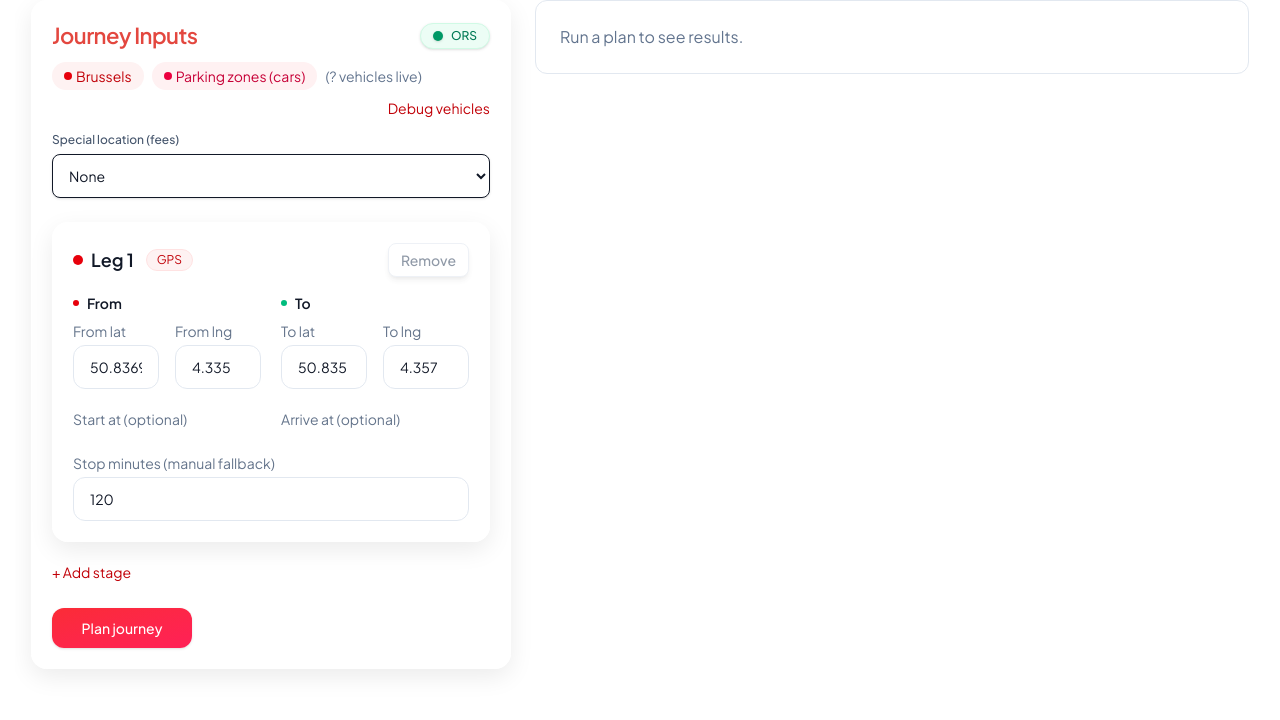
it: PlannerForm › runs a plan and shows a result
Click the button
Step 1. Click the button "Plan journey" → {"x": 122, "y": 628}, box [52,608,192,648]
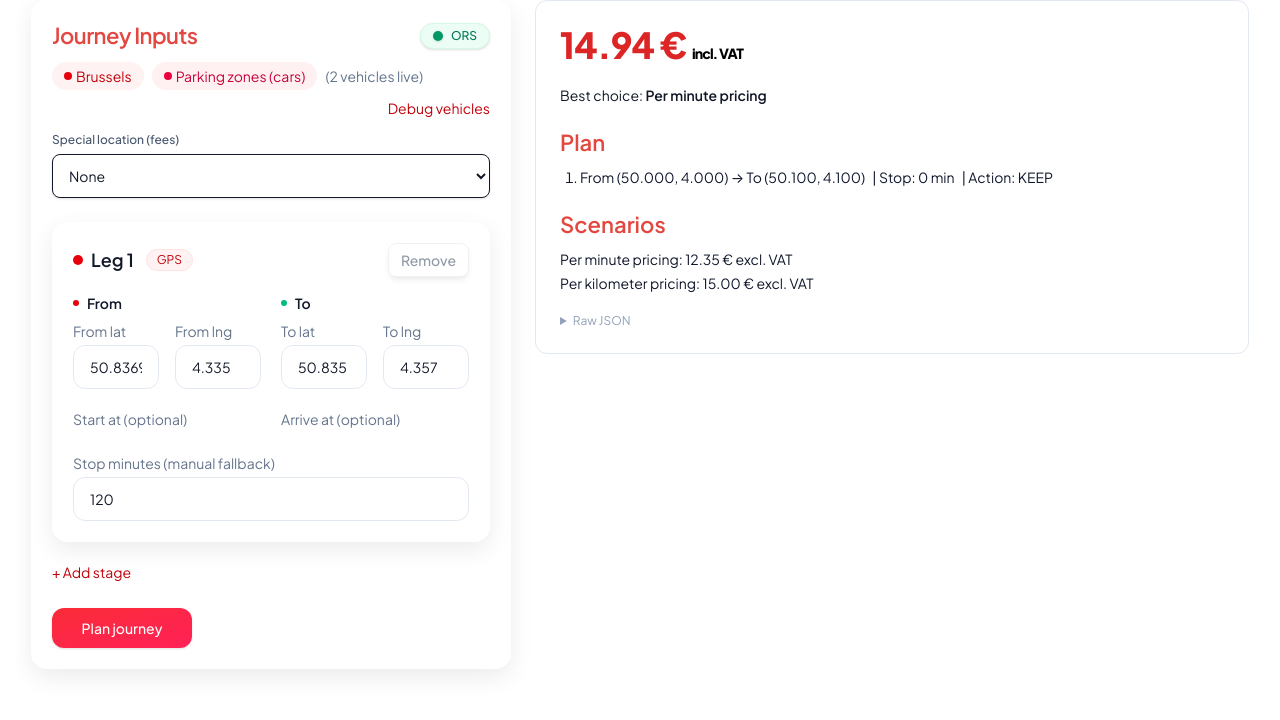
Expected: the text "incl. VAT" is shown, [692,44,743,62]
Expected: the text "14.94 € incl. VAT" is shown, [560,22,743,67]
Expected: the text "14.94 €" is shown, [560,22,692,67]
